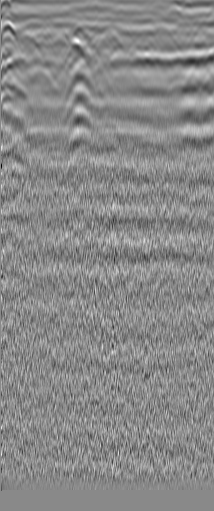오수: (15, 31, 43, 53)
우수: (179, 23, 213, 51)
